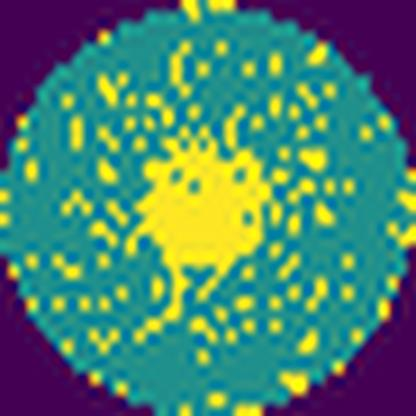Center: (141, 125, 272, 338)
